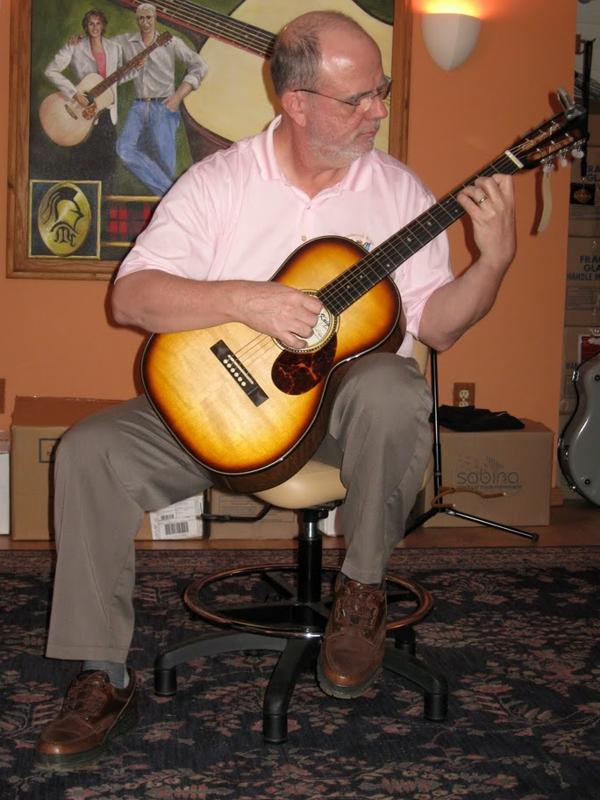person: (39, 11, 521, 778)
